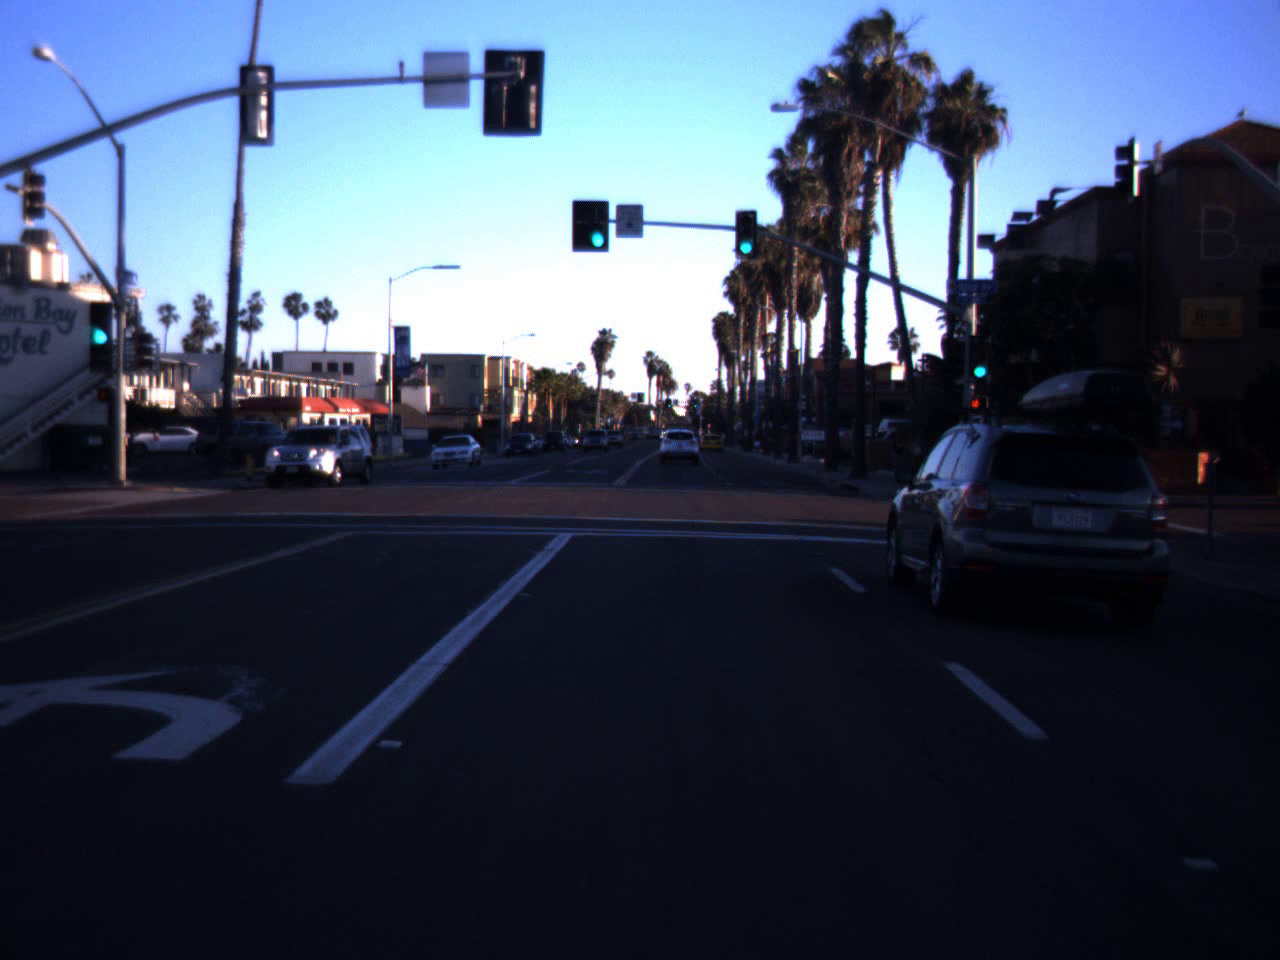go: (84, 284, 117, 349), (583, 192, 613, 252), (731, 212, 761, 257), (967, 340, 994, 380)
